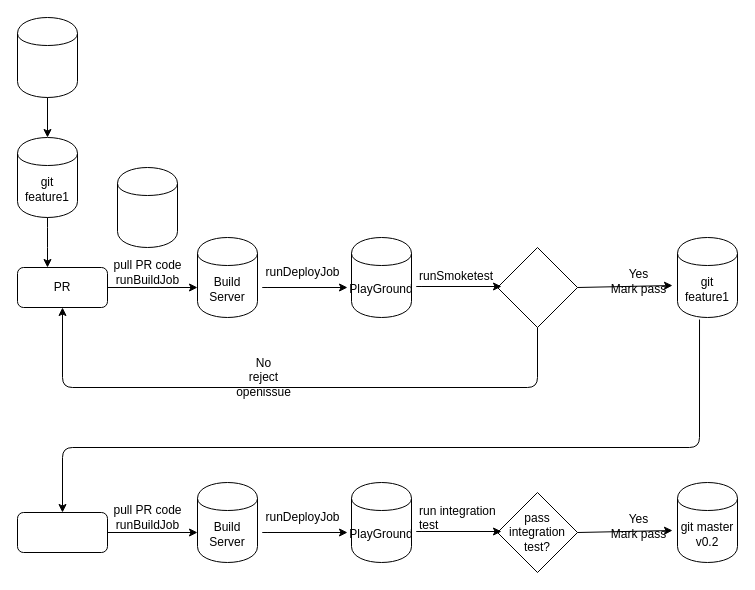
This 755x590 diagram has some shape labels left out. Here are the shapes that lost their labels. From the top down, the centre of each, then its label:
pixel 47 57: git master v0.1
pixel 147 207: Maven server 9.30.146.75
pixel 537 287: Pass smoke test?
pixel 62 532: Merge to master
